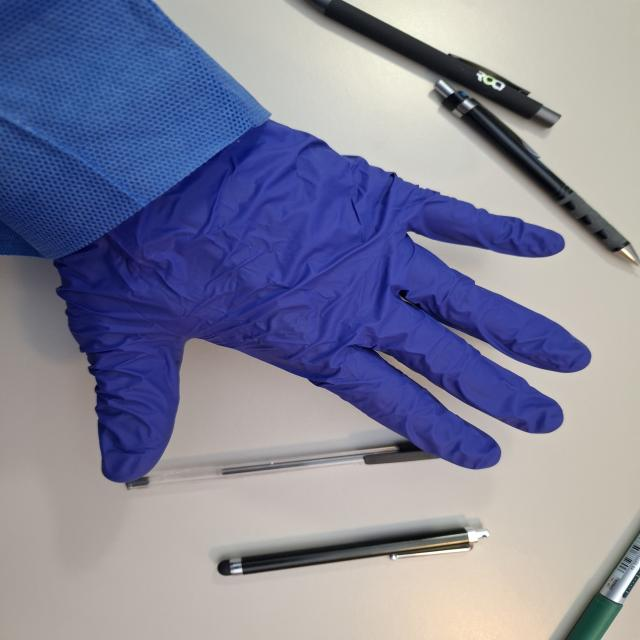glove_on: (42, 117, 596, 486)
